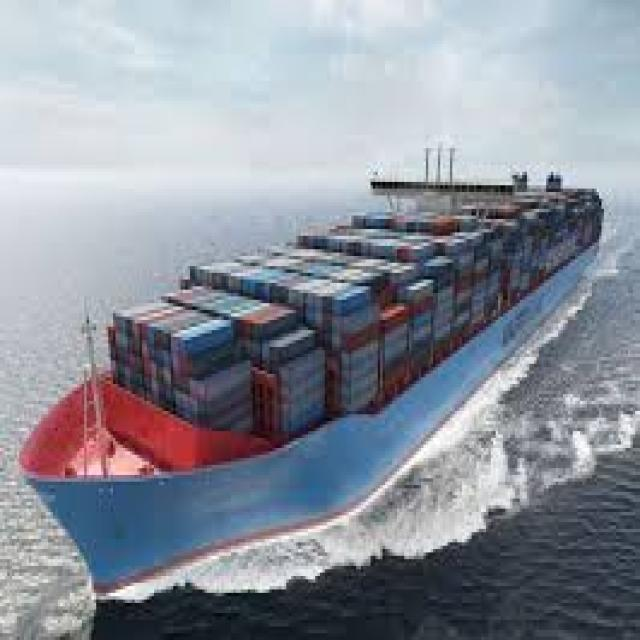cargoship: (23, 132, 603, 589)
